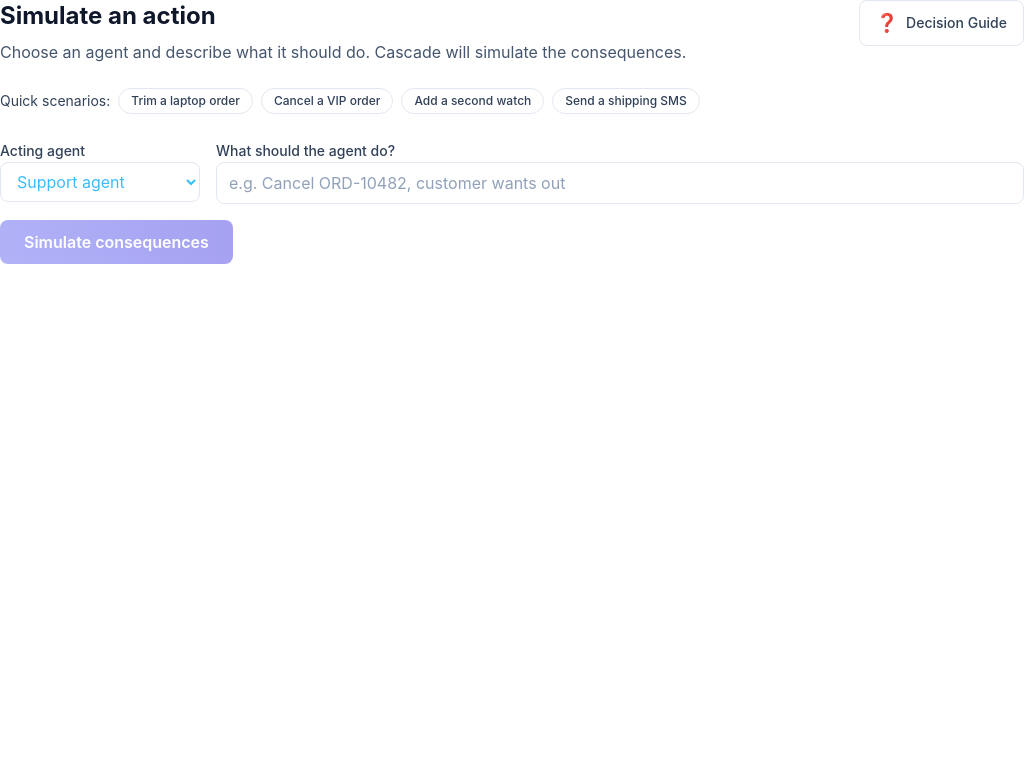
SimulatePage landing › one click simulates an action with seeded data
The width and height of the screenshot is (1024, 768).
// Fill in the form
Type "Change the laptop quantity to 1 on ORD-10550, customer only needs one" into the field with placeholder "e.g. Cancel ORD-10482, customer wants out" at (620, 183), box [216,162,1023,204]
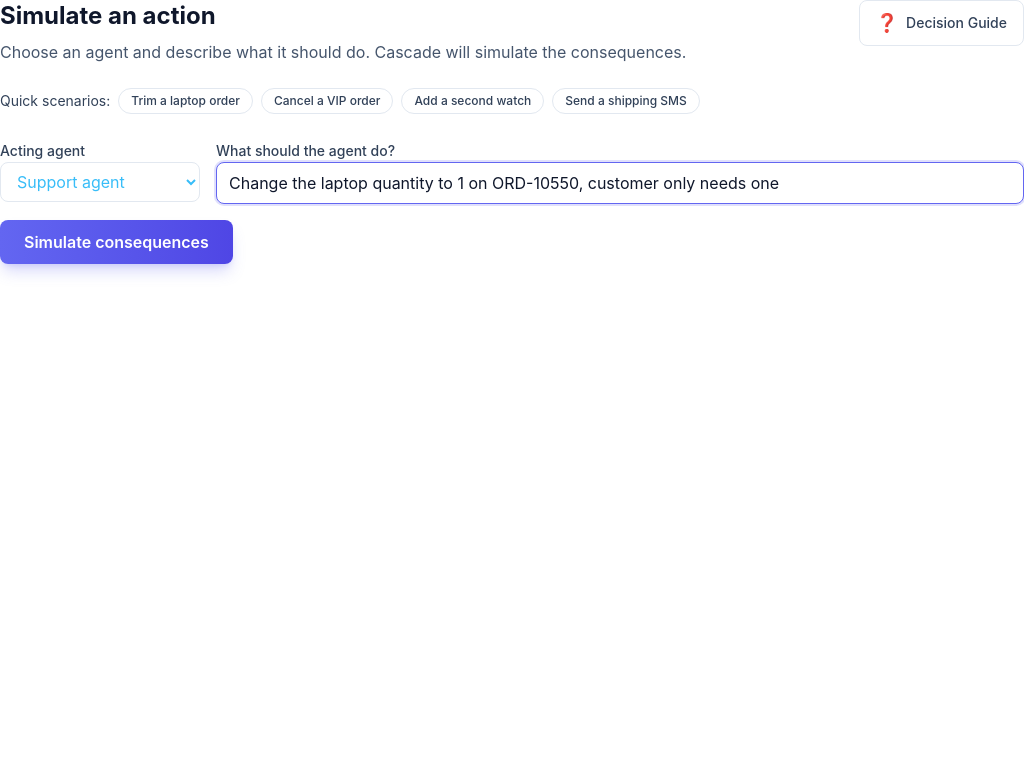
Click the button "Simulate consequences" at (116, 242), box [0,220,233,264]
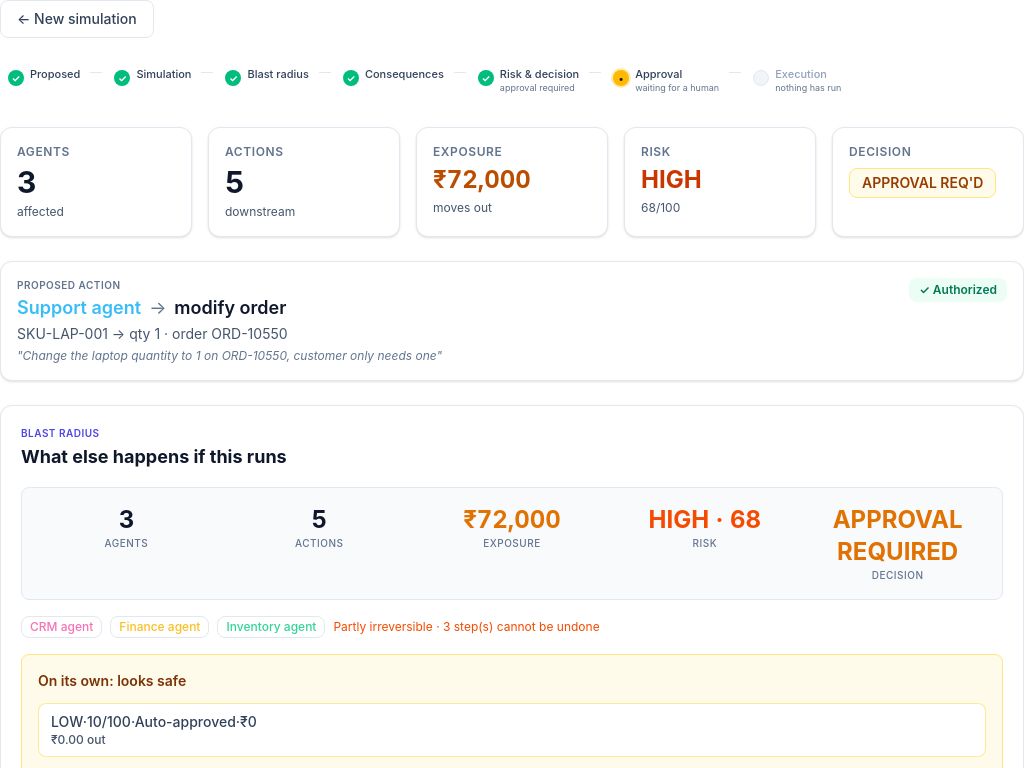
Result: the element with test id "blast-headline" shows "₹72,000" at [463,504,561,534]
Result: the element with test id "blast-headline" shows "Exposure" at [483,536,541,548]
